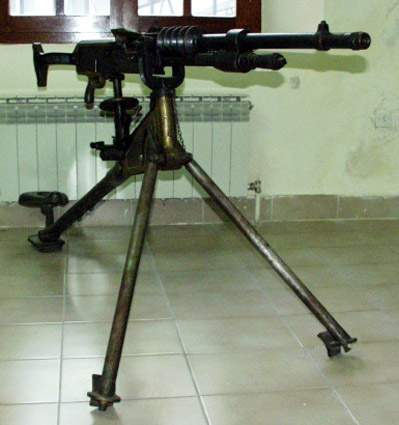rifle: (16, 19, 372, 404)
